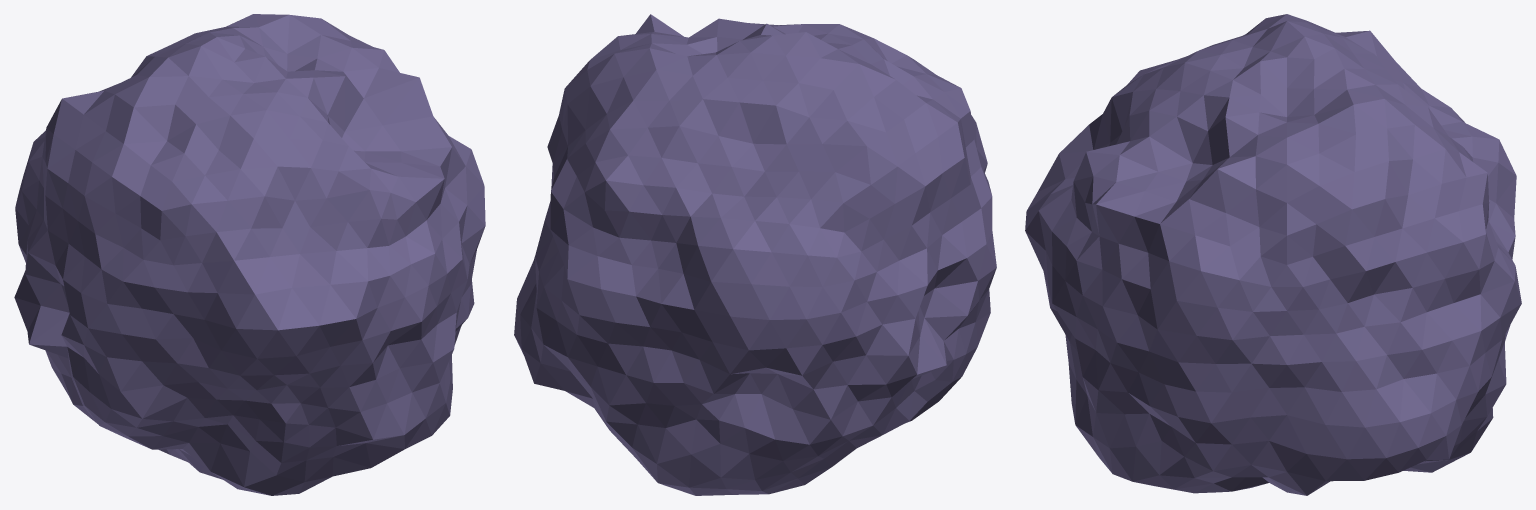
File: asteroid-1.glb
3 renders of one model, left to right at view 1: azimuth 30°, elevation 25°; view 2: azimuth 150°, elevation 25°; view 3: azimuth 270°, elevation 25°, orthographic. The views are drawn at different scales.
Visible parts, largest first — view 1: asteroid; view 2: asteroid; view 3: asteroid.
Boxes of the visible parts, bbox=[...] form: asteroid: bbox=[14, 14, 485, 495]; asteroid: bbox=[514, 14, 996, 495]; asteroid: bbox=[1025, 14, 1521, 495].
Bounding box in the file's own units: 1.97 × 2.08 × 2.1.
